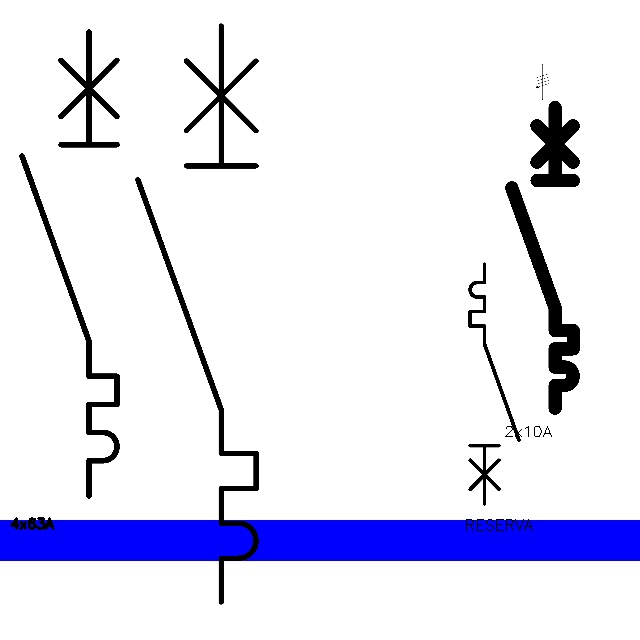interruptor_termomagnetico: (123, 11, 271, 617), (10, 20, 129, 508), (504, 99, 581, 416), (464, 258, 525, 510)
